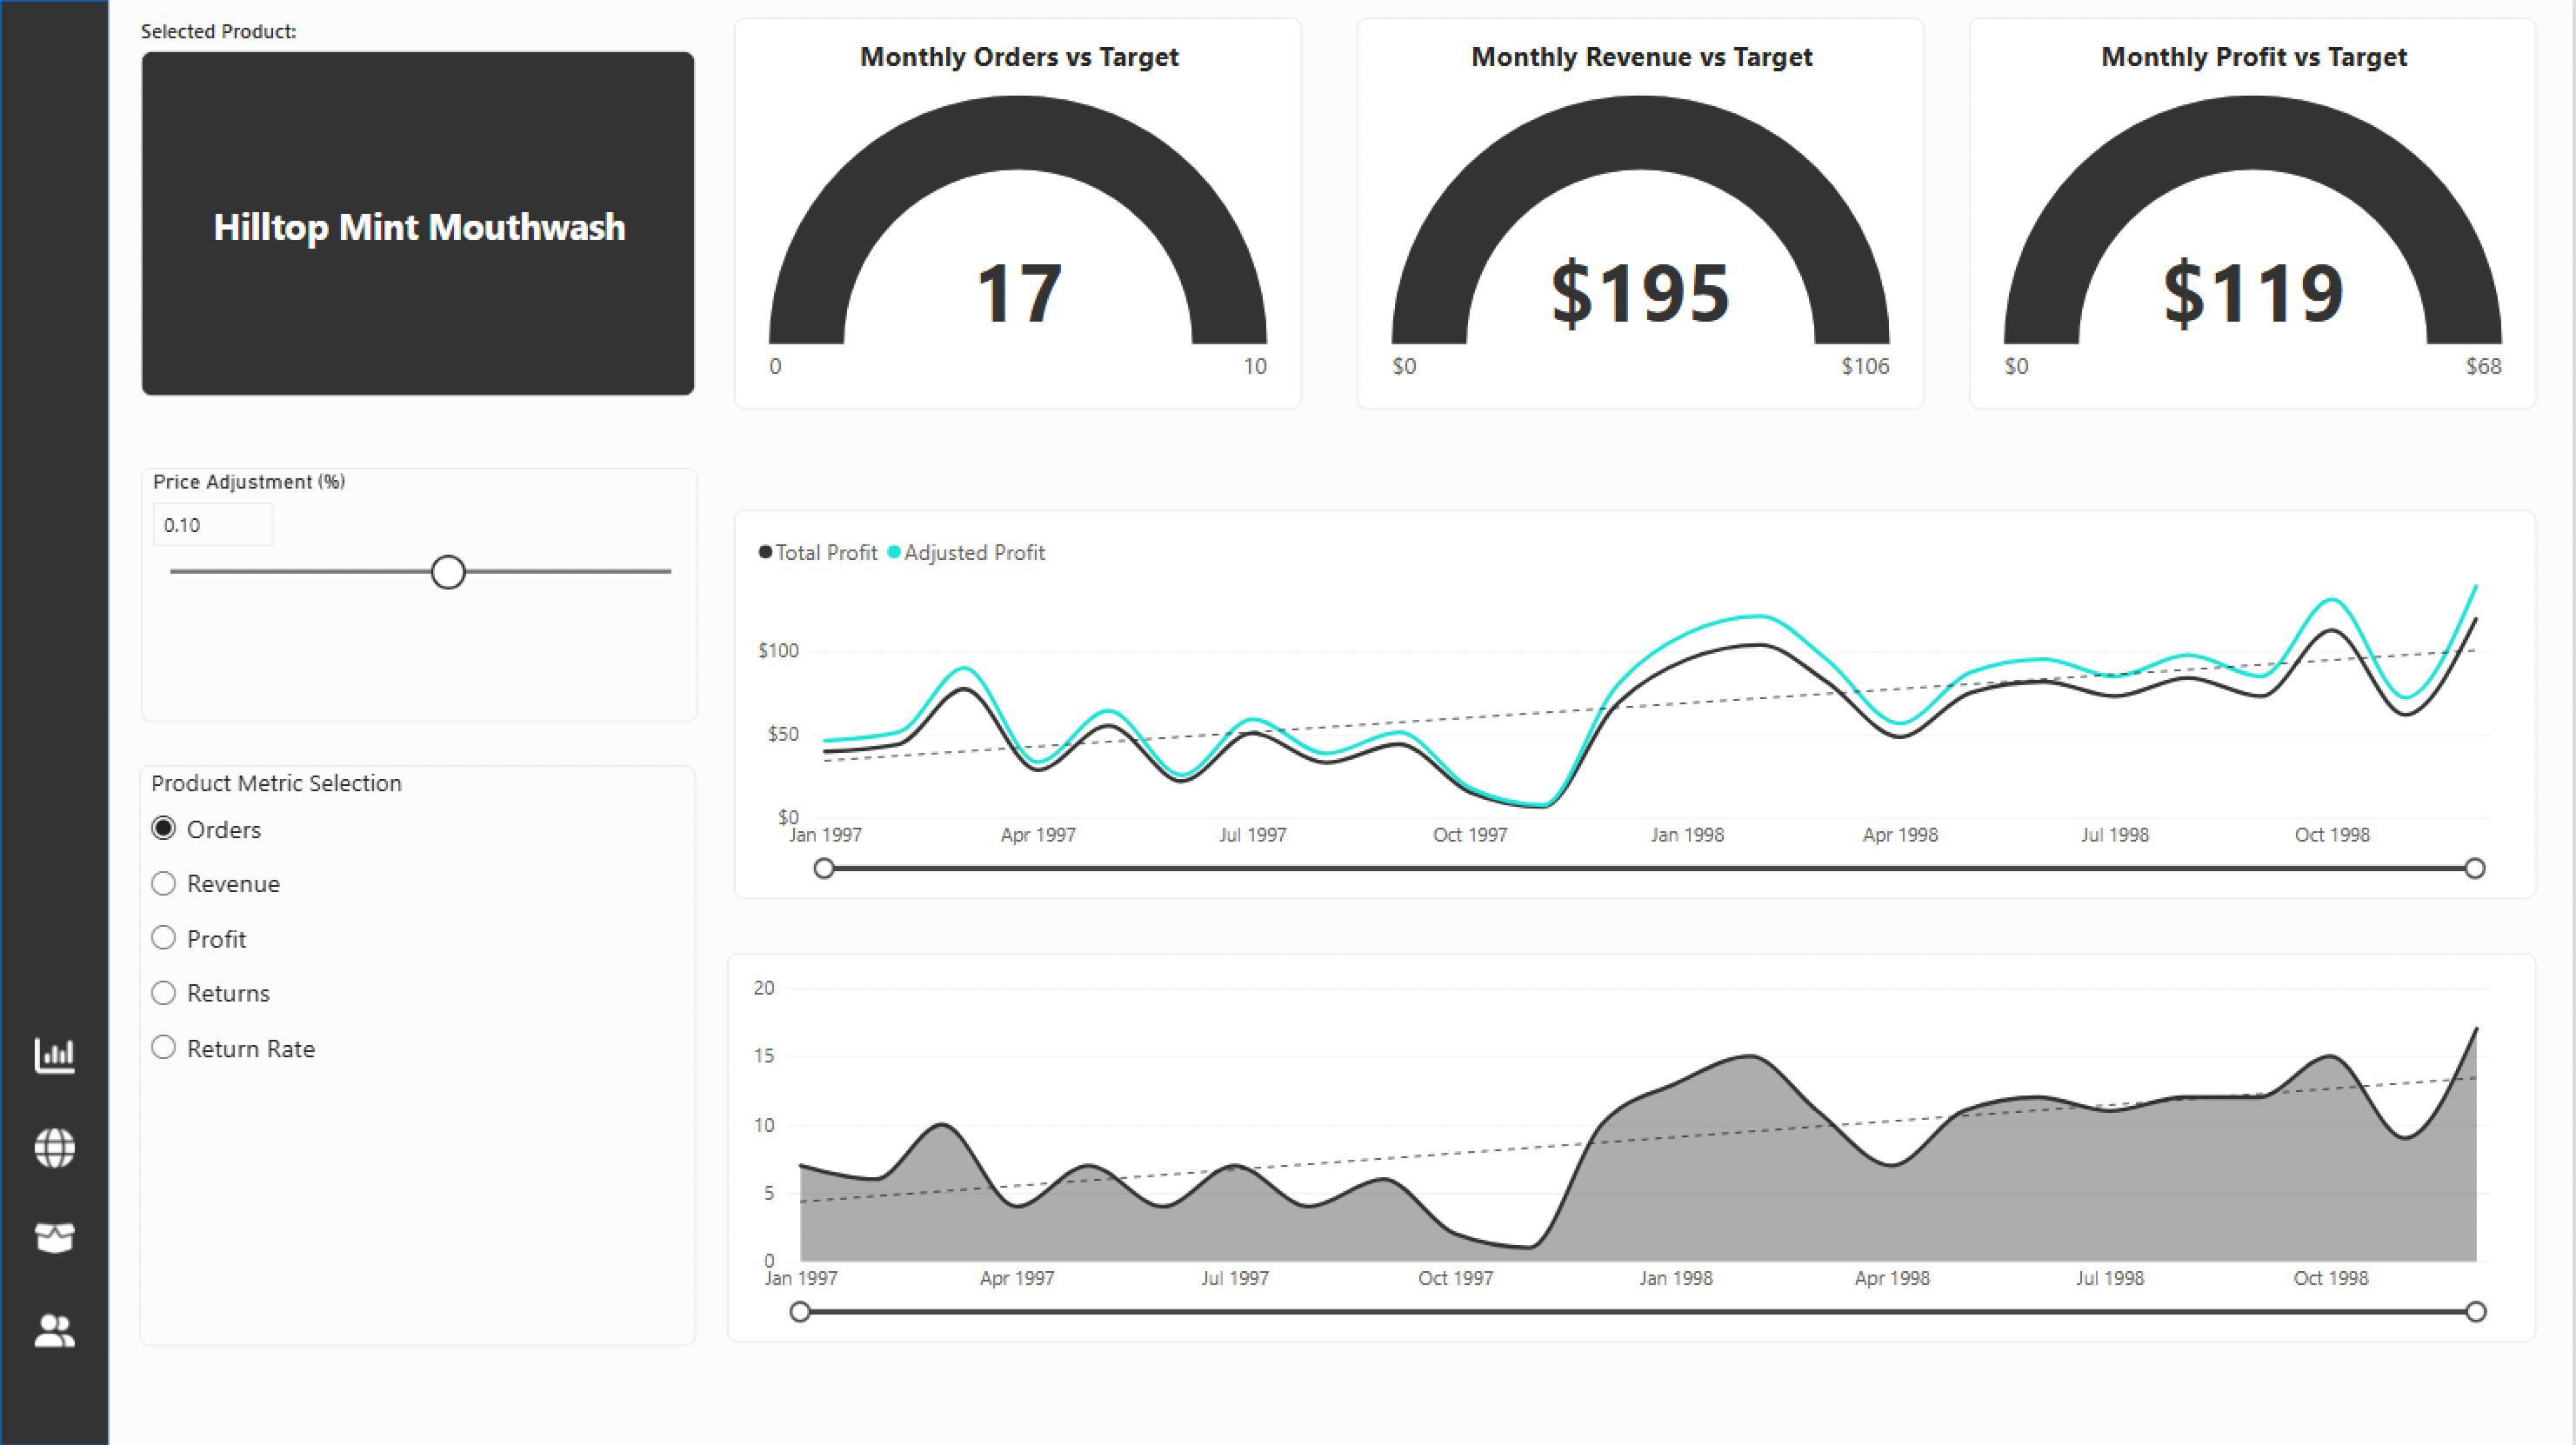

Layout of this report page (visuals, bound fields, positions):
{"tool":"powerbi","page":{"name":"Product Detail","canvas":[1920,1080],"ordinal":2},"visuals":[{"type":"shape","box":[0,0,81.4,1080],"z":0},{"type":"gauge","title":"Monthly Orders vs Target","fields":{"MaxValue":["Measure Table (DAX).Order Target"],"Y":["Measure Table (DAX).Total Transactions"]},"box":[548.6,12.9,424.3,292.9],"z":1000},{"type":"cardVisual","title":"Selected Product:","fields":{"Data":["Min(Products.product_name)"]},"box":[105.3,13.5,414.5,283.5],"z":2000},{"type":"actionButton","title":"Customer Detail","box":[0,959.7,81,68.4],"z":2000,"group":"g1"},{"type":"actionButton","title":"Product Detail","box":[0,891.3,81,68.4],"z":2250,"group":"g1"},{"type":"actionButton","title":"Map","box":[0,823,81,68.4],"z":2500,"group":"g1"},{"type":"gauge","title":"Monthly Revenue vs Target","fields":{"MaxValue":["Measure Table (DAX).Revenue Target"],"Y":["Measure Table (DAX).Total Revenue"]},"box":[1012.9,12.9,424.3,292.9],"z":3000},{"type":"actionButton","title":"Dashboard","box":[0,754.6,81,68.4],"z":3000,"group":"g1"},{"type":"gauge","title":"Monthly Profit vs Target","fields":{"MaxValue":["Measure Table (DAX).Profit Target"],"Y":["Measure Table (DAX).Total Profit"]},"box":[1470,12.9,424.3,292.9],"z":4000},{"type":"lineChart","fields":{"Category":["Calendar.Year Hierarchy.Year","Calendar.Year Hierarchy.Quarter","Calendar.Year Hierarchy.Start of Month","Calendar.Year Hierarchy.Start of Week"],"Y":["Measure Table (DAX).Total Profit","Measure Table (DAX).Adjusted Profit"]},"box":[548.6,380,1345.7,291.4],"z":5000},{"type":"lineChart","fields":{"Category":["Calendar.Year Hierarchy.Year","Calendar.Year Hierarchy.Quarter","Calendar.Year Hierarchy.Start of Month","Calendar.Year Hierarchy.Start of Week"],"Y":["Measure Table (DAX).Total Transactions"]},"box":[542.8,711.6,1351.4,291.4],"z":6000},{"type":"group","id":"g1","title":"Navigation Pane","box":[0,754.6,81,273.5],"z":7000},{"type":"slicer","fields":{"Values":["Price Adjustment (%).Price Adjustment (%)"]},"box":[105.3,349.7,415.9,190.4],"z":8000},{"type":"slicer","fields":{"Values":["Product Metric Selection.Product Metric Selection"]},"box":[104,571.1,416.3,434],"z":9000}]}

Visuals, with their boxes on the page's 1920x1080 design canvas (x1, y1, x2, y2). These are canvas units, not pixel positions in the 2576x1445 screenshot, which may show the page scaled, cropped or inside an application window:
shape: pyautogui.locateOnScreen(0, 0, 81, 1080)
"Monthly Orders vs Target" gauge: pyautogui.locateOnScreen(549, 13, 973, 306)
"Selected Product:" cardVisual: pyautogui.locateOnScreen(105, 14, 520, 297)
"Customer Detail" actionButton: pyautogui.locateOnScreen(0, 960, 81, 1028)
"Product Detail" actionButton: pyautogui.locateOnScreen(0, 891, 81, 960)
"Map" actionButton: pyautogui.locateOnScreen(0, 823, 81, 891)
"Monthly Revenue vs Target" gauge: pyautogui.locateOnScreen(1013, 13, 1437, 306)
"Dashboard" actionButton: pyautogui.locateOnScreen(0, 755, 81, 823)
"Monthly Profit vs Target" gauge: pyautogui.locateOnScreen(1470, 13, 1894, 306)
lineChart - Calendar.Year Hierarchy.Year x Calendar.Year Hierarchy.Quarter: pyautogui.locateOnScreen(549, 380, 1894, 671)
lineChart - Calendar.Year Hierarchy.Year x Calendar.Year Hierarchy.Quarter: pyautogui.locateOnScreen(543, 712, 1894, 1003)
"Navigation Pane" group: pyautogui.locateOnScreen(0, 755, 81, 1028)
slicer - Price Adjustment (%).Price Adjustment (%): pyautogui.locateOnScreen(105, 350, 521, 540)
slicer - Product Metric Selection.Product Metric Selection: pyautogui.locateOnScreen(104, 571, 520, 1005)
